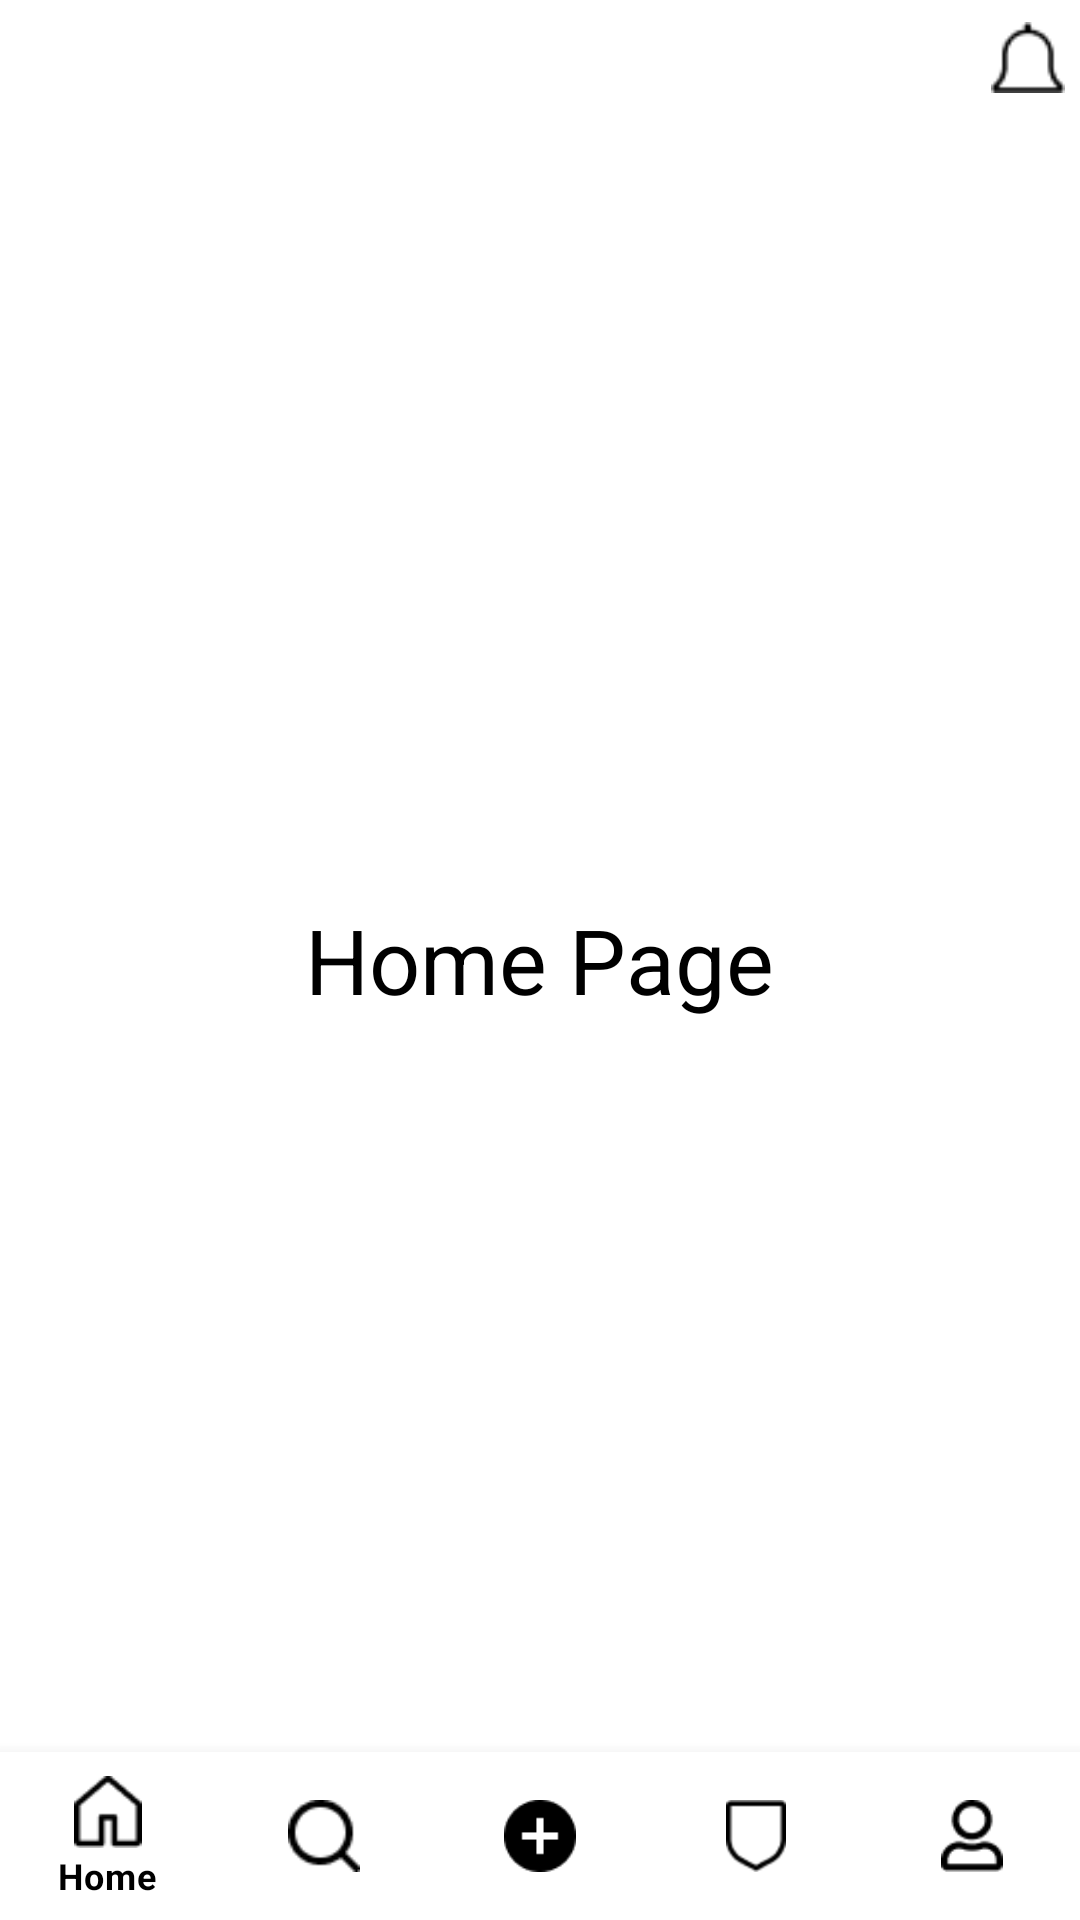

Screen size 1080x1920. Icon name, then its box in pixels as (x1, y1, x2, y2):
noti: (991, 22, 1065, 93)
